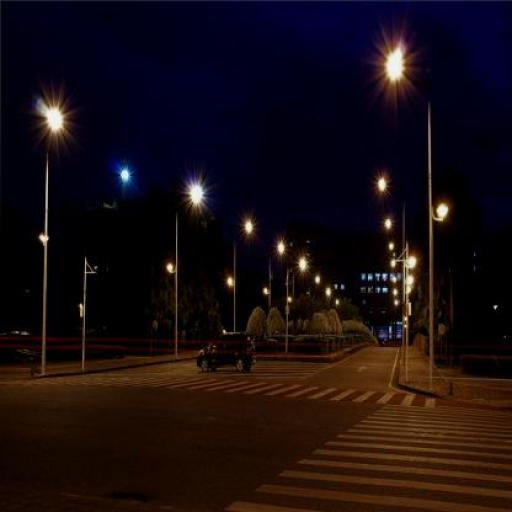street light: (384, 52, 435, 386), (378, 176, 409, 381), (40, 115, 64, 374), (176, 184, 202, 356), (384, 216, 406, 360), (234, 222, 253, 338), (391, 258, 407, 354), (268, 244, 286, 320), (292, 260, 306, 329)
